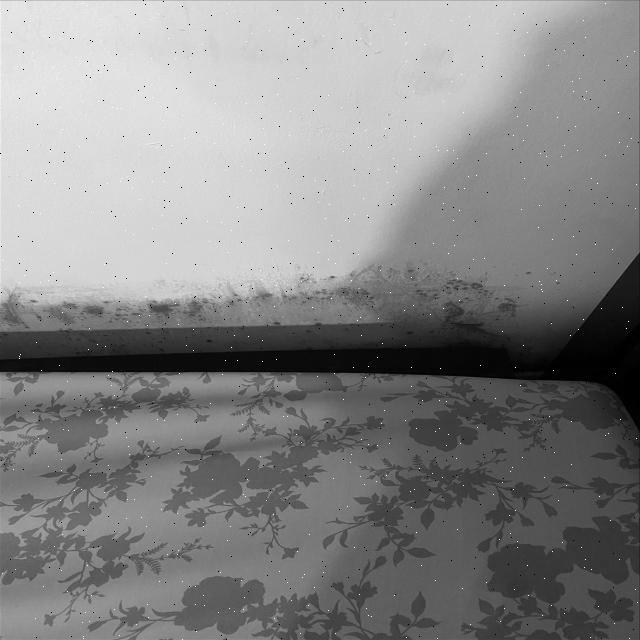stain marks: (0, 246, 588, 376)
